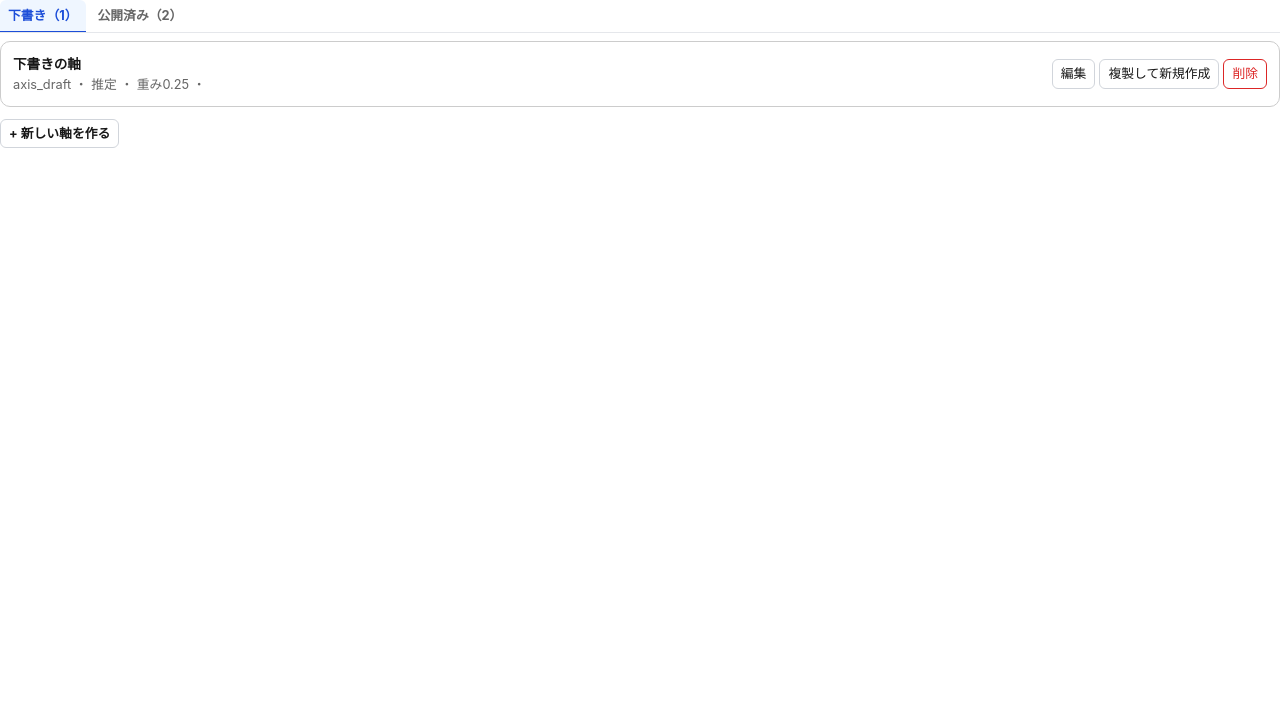
Scenario: フォームを開くモード › 公開済みの軸の「表示だけ編集」は、表示の項目の編集として開く
Click the tab "公開済み（2）" at (140, 17), box [90,0,190,33]
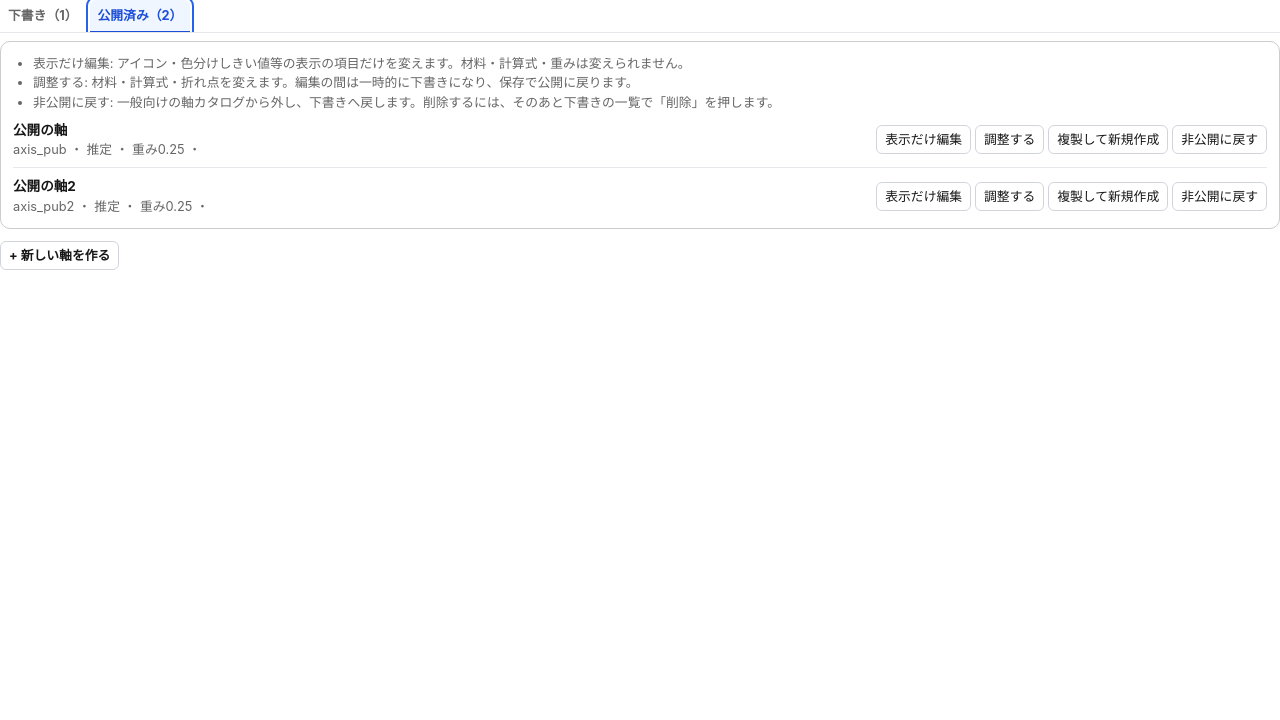
Click the 1st button "表示だけ編集" at (924, 140), box [876,125,971,154]
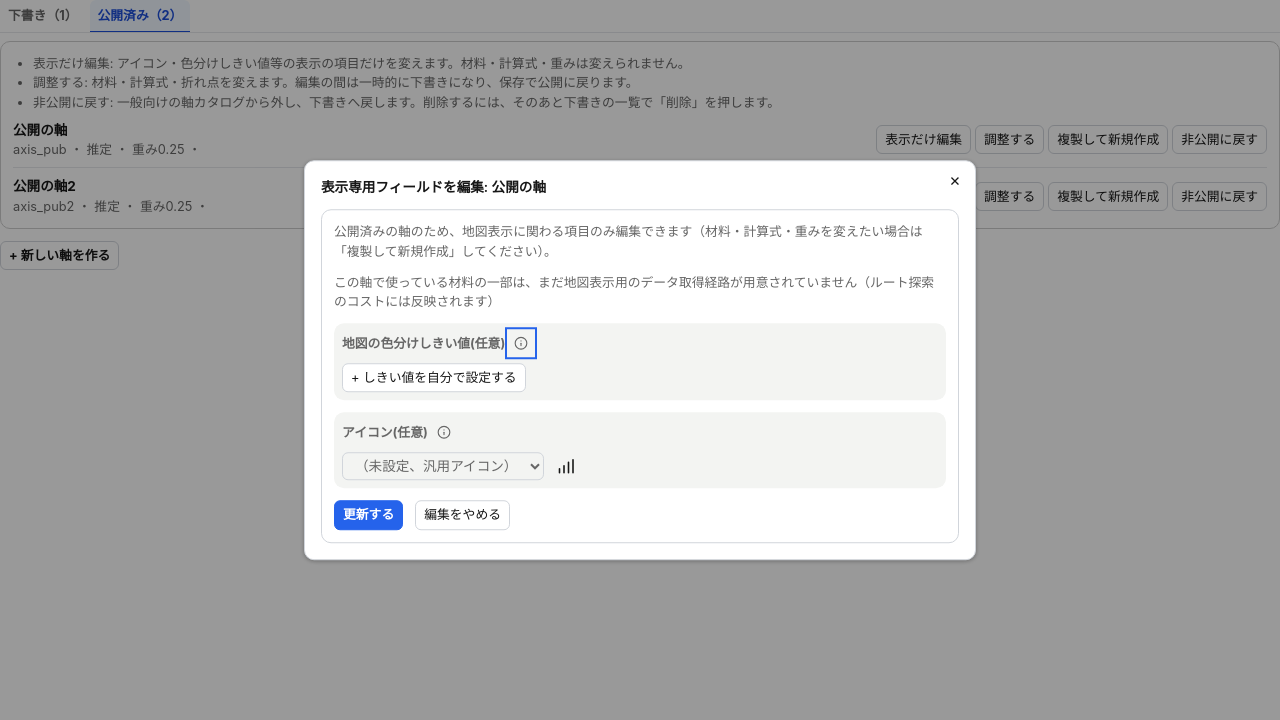
Check: the dialog "表示専用フィールドを編集: 公開の軸" is shown, box [304,160,976,560]
Check: the text "地図表示に関わる項目のみ編集できます" is shown, box [334,225,923,259]
